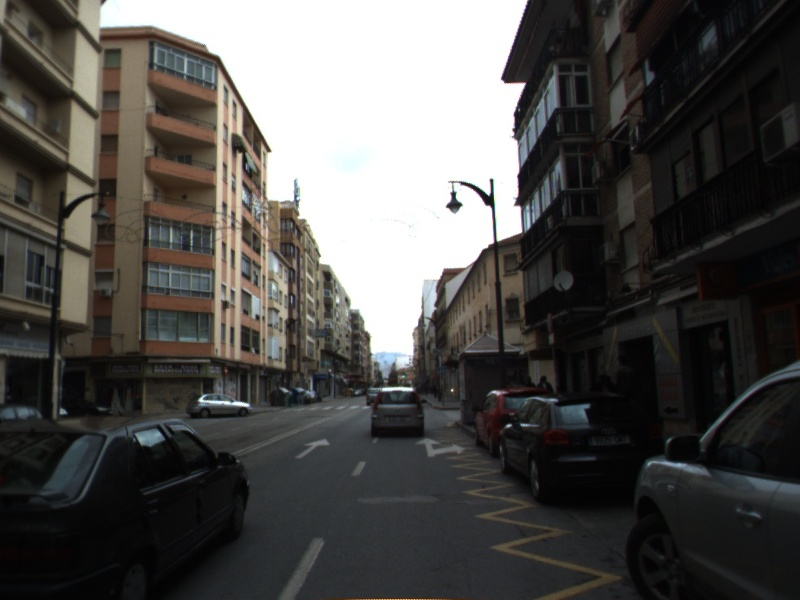STRAIGHT: (292, 437, 332, 460)
STRAIGHT_RIGHT: (412, 436, 467, 459)
